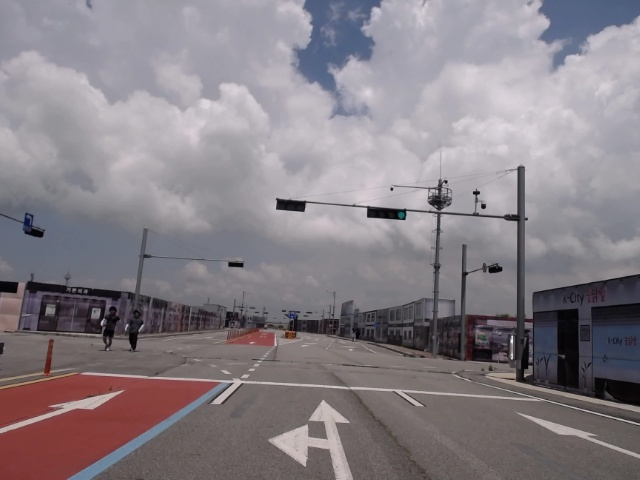straight_green_4: (369, 206, 407, 220)
